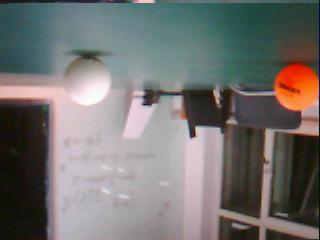oball: (273, 61, 320, 110)
